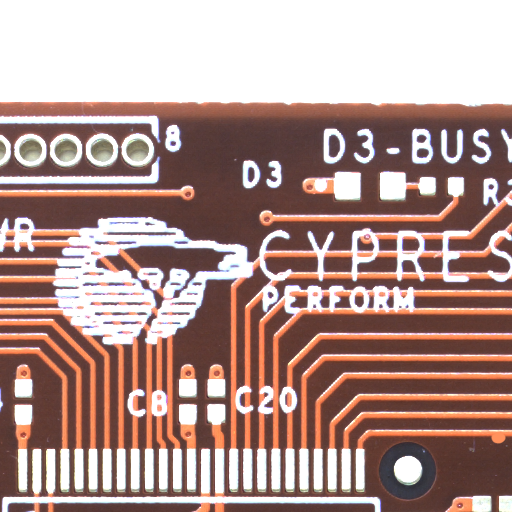Spur: (498, 439, 512, 450)
